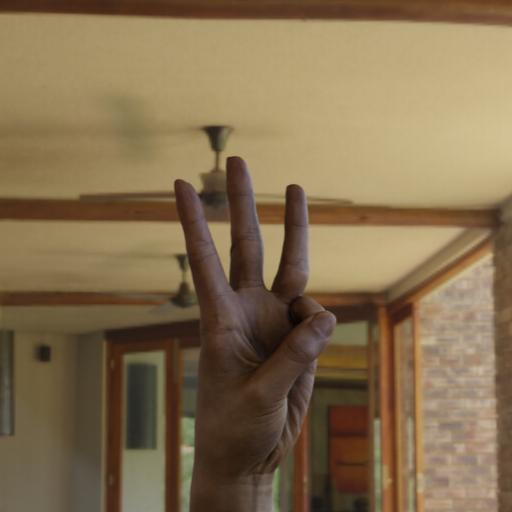W: (166, 150, 342, 482)
